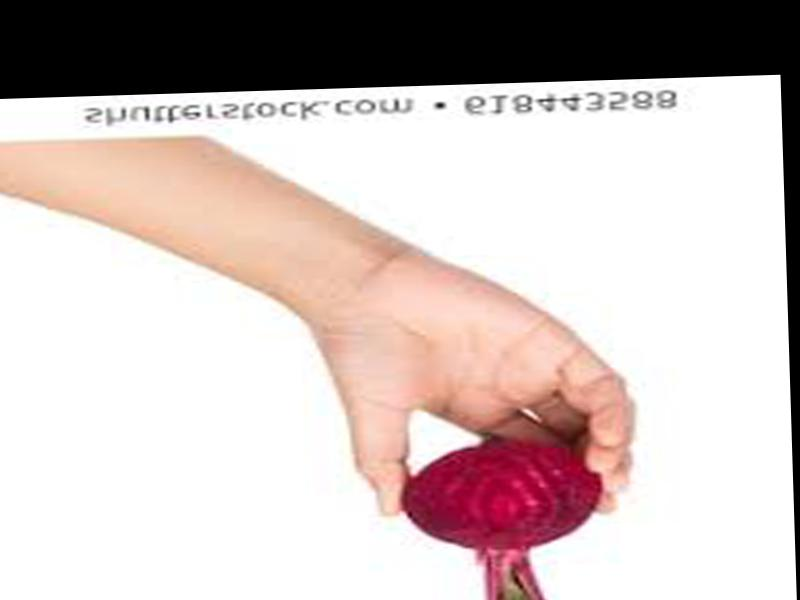Beet: (401, 435, 610, 600)
